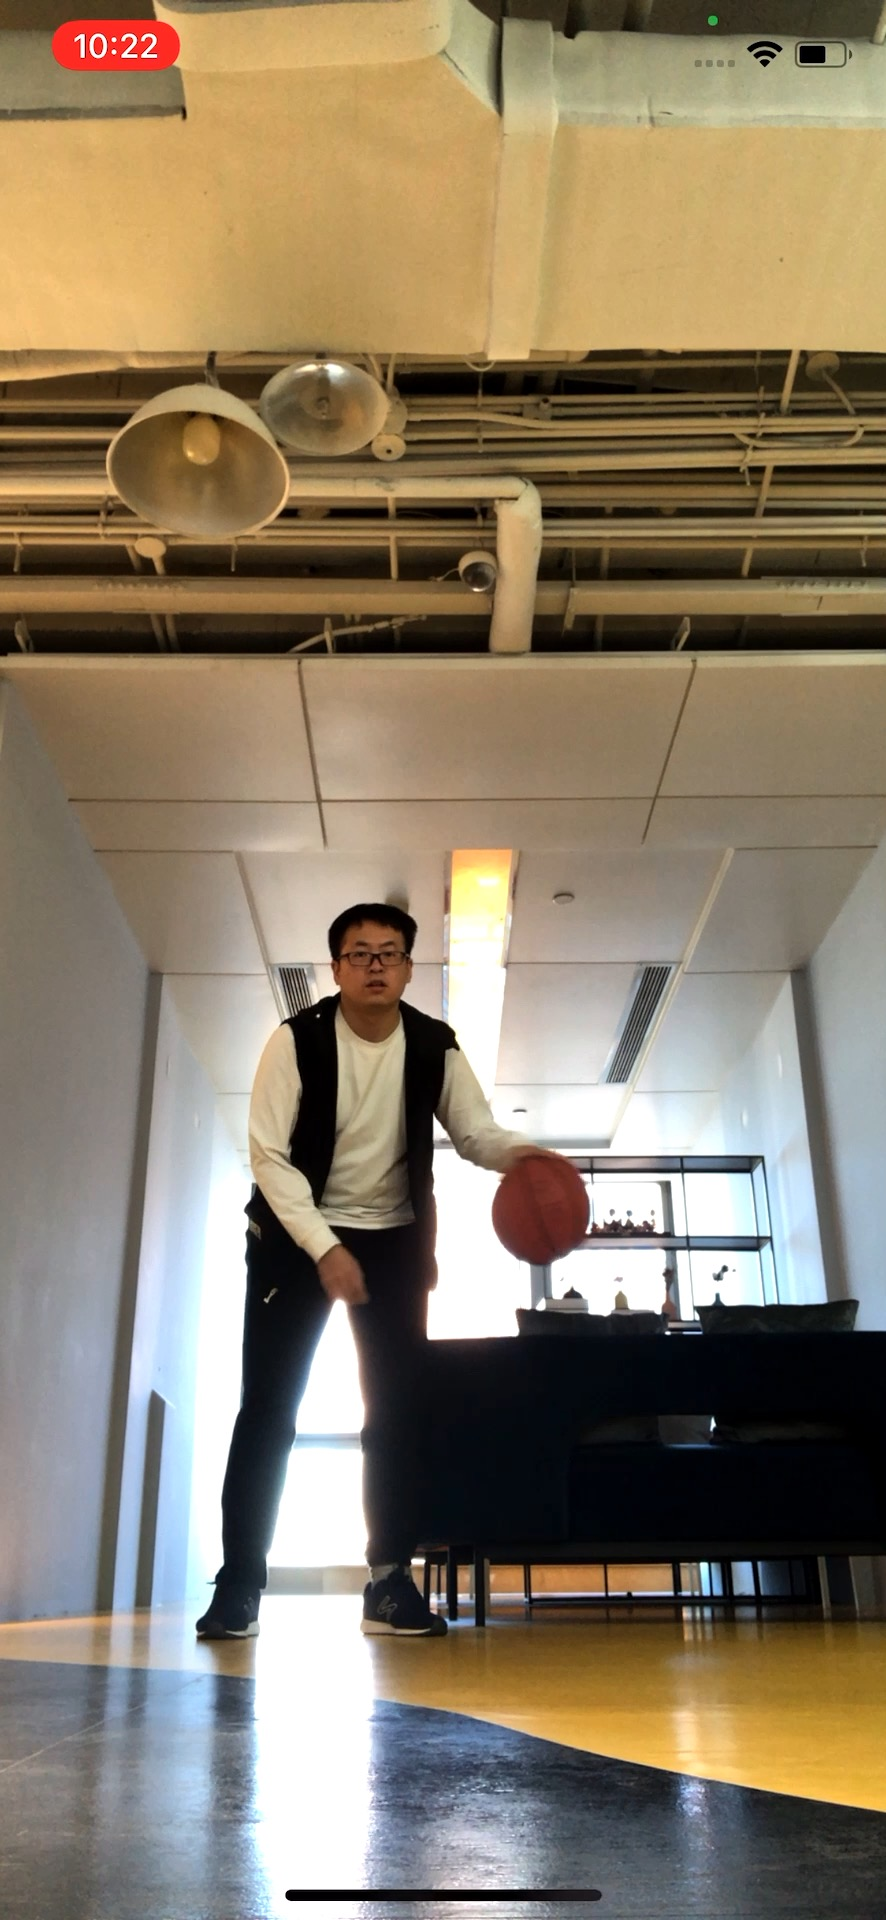ball: (486, 1155, 592, 1262)
